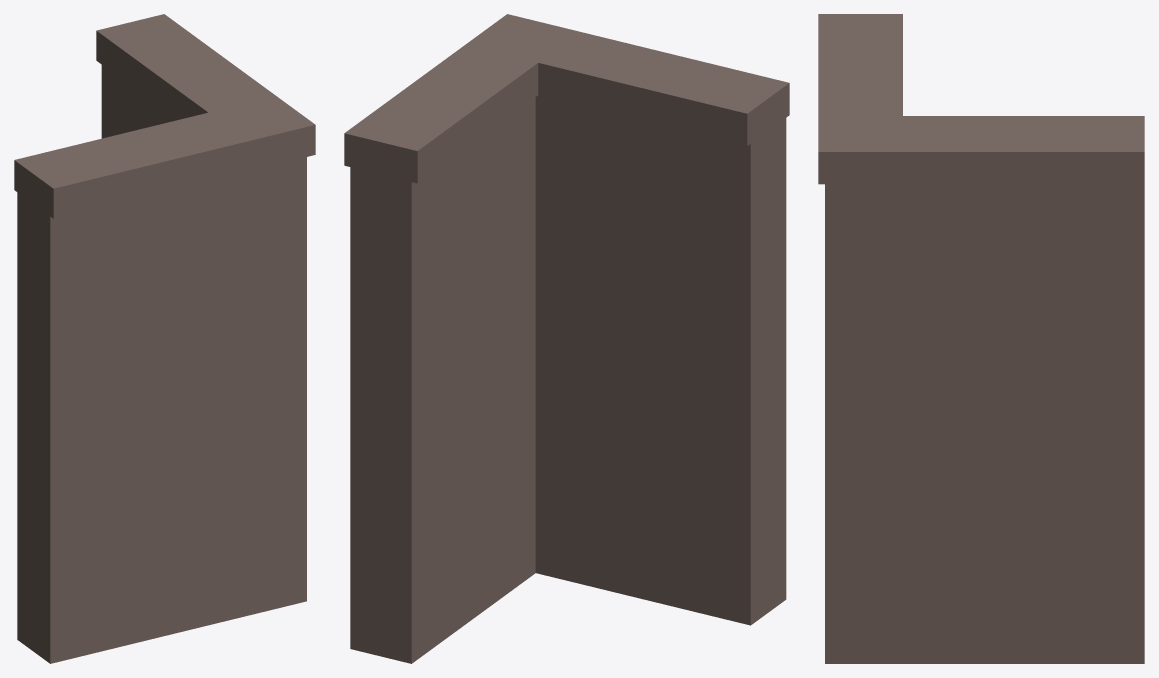
Rendered from Village_Wall_Stone_1m_Corner_A.fbx.
3 renders of one model, left to right at view 1: azimuth 30°, elevation 25°; view 2: azimuth 150°, elevation 25°; view 3: azimuth 270°, elevation 25°, orthographic. The views are drawn at different scales.
Visible parts, largest first — view 1: Village_Wall_2m_Stone_Corner_A; view 2: Village_Wall_2m_Stone_Corner_A; view 3: Village_Wall_2m_Stone_Corner_A.
Boxes of the visible parts, x1,y1,x2,y2 form: Village_Wall_2m_Stone_Corner_A: (14, 14, 315, 663); Village_Wall_2m_Stone_Corner_A: (344, 14, 789, 663); Village_Wall_2m_Stone_Corner_A: (818, 14, 1144, 663).
Bounding box in the file's own units: 115 × 200 × 115.
